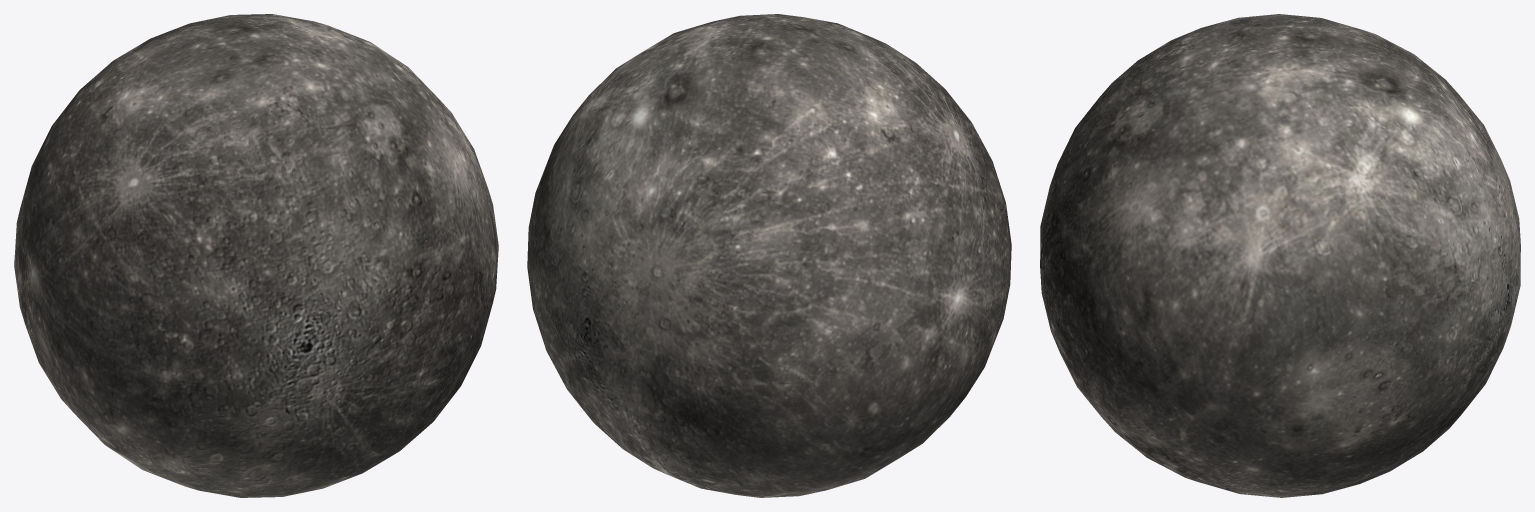
File: Mercury.glb
The picture shows the model from 3 angles, left to right: view 1: azimuth 30°, elevation 25°; view 2: azimuth 150°, elevation 25°; view 3: azimuth 270°, elevation 25°; orthographic projection.
Parts seen in each view (by area): view 1: Mercury; view 2: Mercury; view 3: Mercury.
Part boxes in pixels (x1,y1,x2,y2): Mercury: [14, 14, 498, 497]; Mercury: [527, 14, 1011, 497]; Mercury: [1040, 14, 1520, 497].
Bounding box in the file's own units: 1.99 × 1.98 × 1.97.
1 material, 1 textured.
